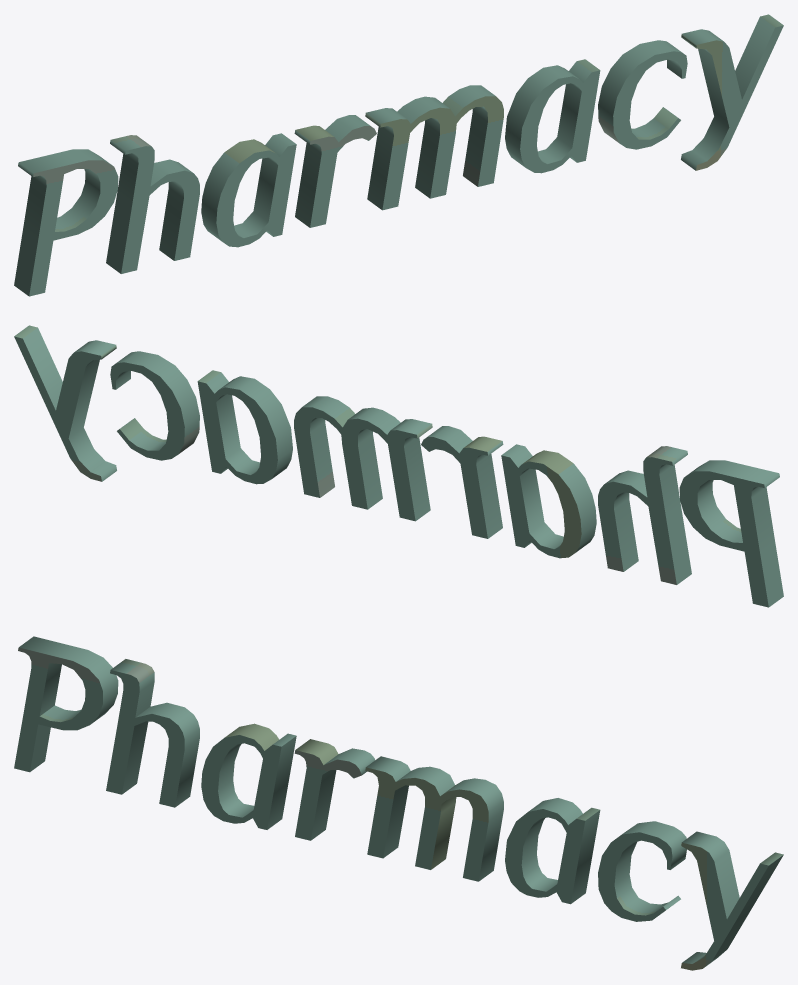
Rendered from Sign Pharmacy.glb.
The picture shows the model from 3 angles, top to bottom: view 1: azimuth 30°, elevation 25°; view 2: azimuth 150°, elevation 25°; view 3: azimuth 330°, elevation 25°; orthographic projection.
Visible parts, largest first — view 1: Sign_Pharmacy; view 2: Sign_Pharmacy; view 3: Sign_Pharmacy.
Part boxes in pixels (x1,y1,x2,y2): Sign_Pharmacy: (14,14,783,296); Sign_Pharmacy: (14,325,783,607); Sign_Pharmacy: (14,636,783,970).
Bounding box in the file's own units: 5.1 × 1.03 × 0.1772.
Materials: 1 (1 with a texture image).
